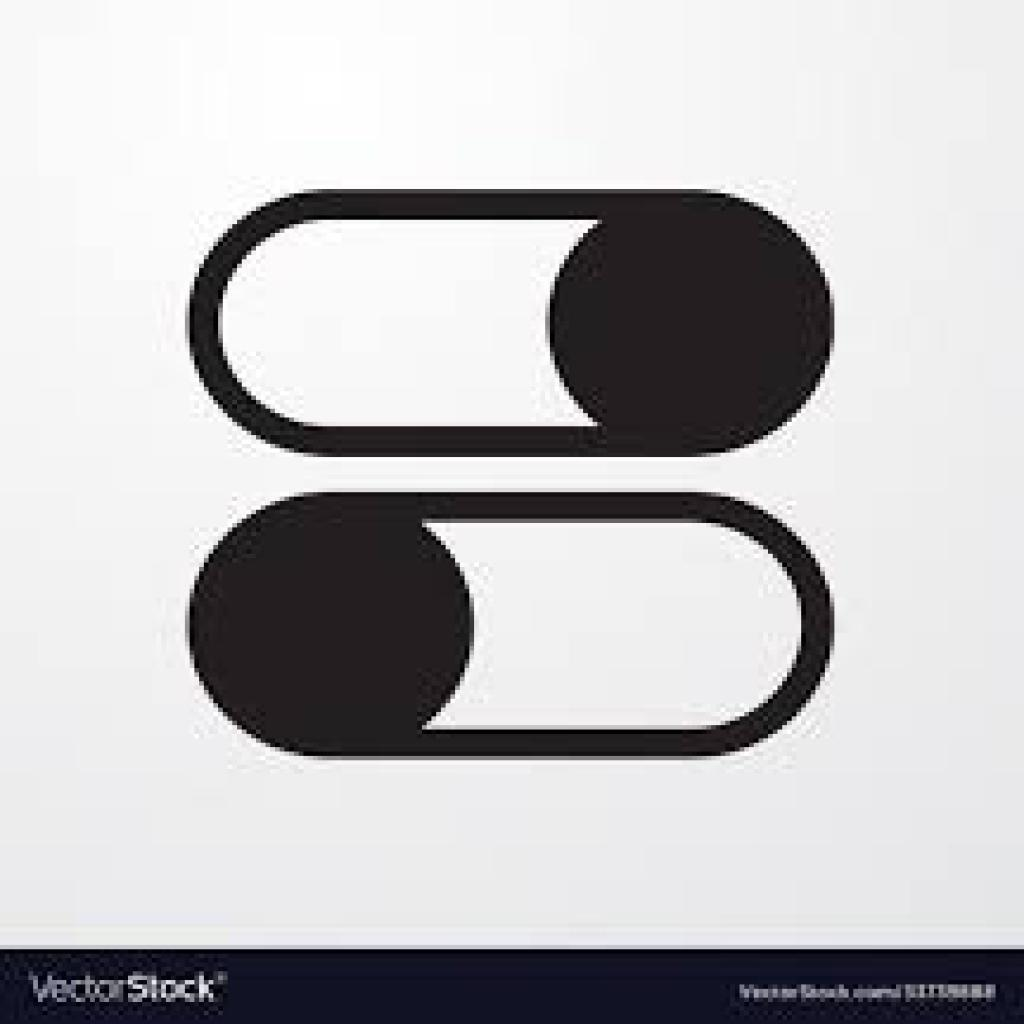switch: (186, 190, 837, 457), (190, 494, 837, 760)
